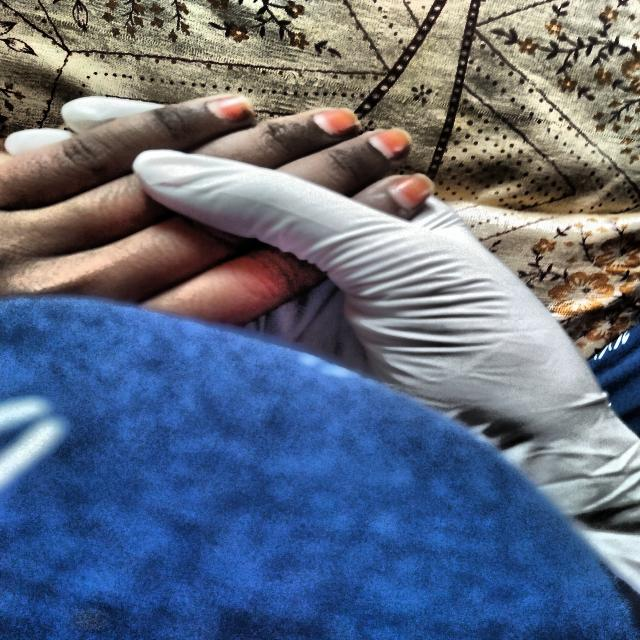gloved: (5, 94, 640, 611)
